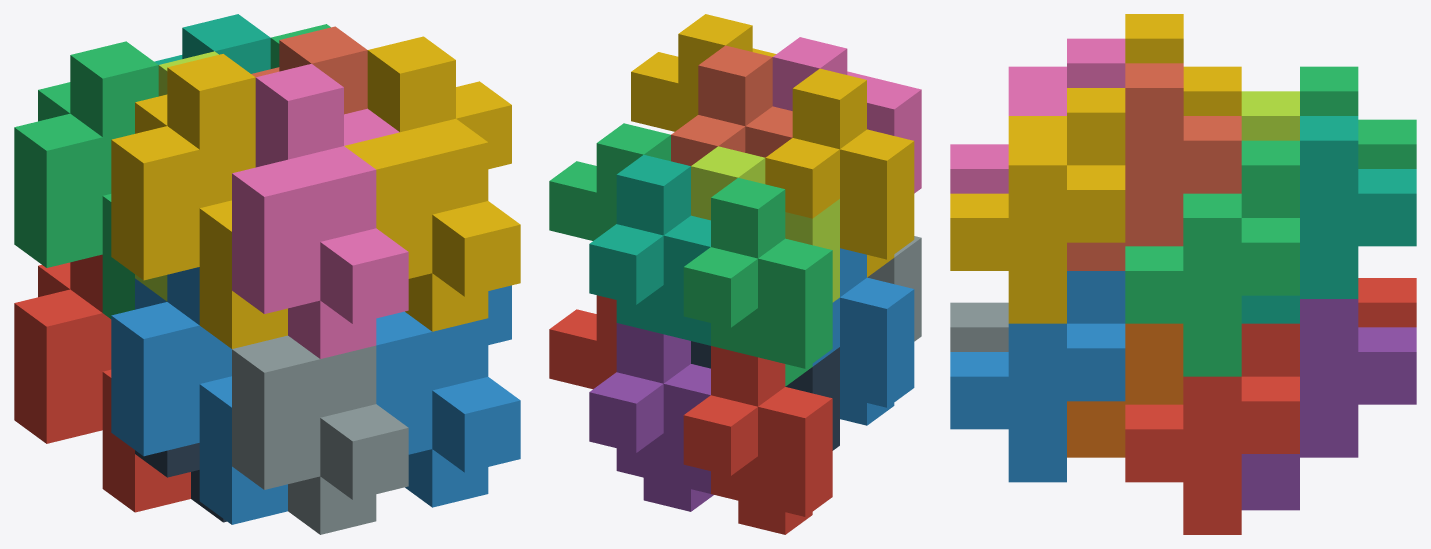
File: tiling.obj
3 views of the same model, side by side, from view 1: azimuth 30°, elevation 25°; view 2: azimuth 150°, elevation 25°; view 3: azimuth 270°, elevation 25° (orthographic). The views are drawn at different scales.
Visible parts, largest first — view 1: copy_2_domain_4, copy_2_domain_8, copy_1_domain_4, copy_2_domain_2, copy_1_domain_3, copy_1_domain_2, copy_2_domain_6, copy_1_domain_1, copy_1_domain_8, copy_1_domain_7, copy_2_domain_1, copy_2_domain_3; view 2: copy_1_domain_3, copy_1_domain_1, copy_1_domain_4, copy_1_domain_7, copy_1_domain_5, copy_1_domain_2, copy_1_domain_8, copy_2_domain_8, copy_2_domain_7, copy_2_domain_4, copy_2_domain_3, copy_2_domain_5 (+2 smaller); view 3: copy_2_domain_8, copy_2_domain_7, copy_2_domain_6, copy_2_domain_5, copy_1_domain_5, copy_1_domain_8, copy_1_domain_7, copy_2_domain_4, copy_1_domain_6, copy_1_domain_3, copy_1_domain_4, copy_1_domain_1 (+2 smaller).
Boxes of the visible parts, x1,y1,x2,y2 form: copy_2_domain_4: [232, 64, 408, 358]; copy_2_domain_8: [344, 36, 520, 331]; copy_1_domain_4: [111, 54, 287, 348]; copy_2_domain_2: [232, 335, 408, 534]; copy_1_domain_3: [14, 41, 158, 318]; copy_1_domain_2: [111, 267, 287, 524]; copy_2_domain_6: [376, 285, 520, 507]; copy_1_domain_1: [14, 254, 190, 512]; copy_1_domain_8: [251, 26, 367, 114]; copy_1_domain_7: [154, 14, 270, 73]; copy_2_domain_1: [135, 443, 226, 522]; copy_2_domain_3: [135, 51, 218, 301]; copy_1_domain_3: [683, 177, 832, 386]; copy_1_domain_1: [683, 346, 832, 534]; copy_1_domain_4: [765, 68, 914, 277]; copy_1_domain_7: [589, 155, 710, 345]; copy_1_domain_5: [589, 323, 713, 511]; copy_1_domain_2: [812, 248, 914, 425]; copy_1_domain_8: [671, 45, 792, 165]; copy_2_domain_8: [631, 14, 776, 131]; copy_2_domain_7: [549, 123, 670, 240]; copy_2_domain_4: [772, 37, 921, 193]; copy_2_domain_3: [691, 146, 839, 302]; copy_2_domain_5: [549, 295, 616, 388]; copy_2_domain_8: [950, 88, 1125, 323]; copy_2_domain_7: [1125, 140, 1299, 376]; copy_2_domain_6: [950, 271, 1125, 482]; copy_2_domain_5: [1125, 323, 1299, 534]; copy_1_domain_5: [1241, 299, 1416, 510]; copy_1_domain_8: [1067, 63, 1241, 270]; copy_1_domain_7: [1241, 116, 1416, 323]; copy_2_domain_4: [950, 38, 1125, 193]; copy_1_domain_6: [1067, 323, 1183, 457]; copy_1_domain_3: [1300, 66, 1416, 168]; copy_1_domain_4: [1125, 14, 1241, 115]; copy_1_domain_1: [1358, 278, 1416, 327].
Bounding box in the file's own units: 6 × 8 × 8.
